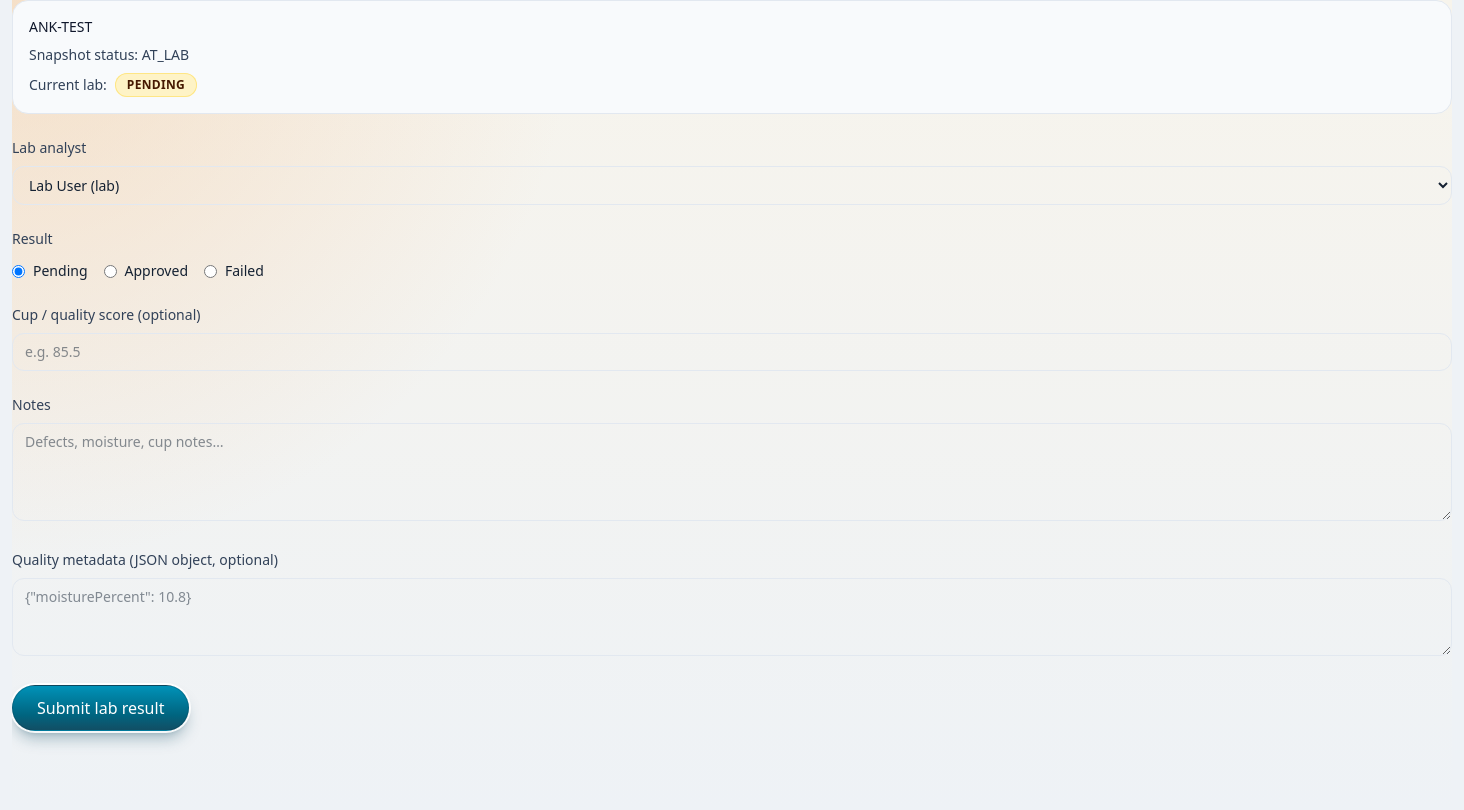
LabResultForm › shows validation error for invalid metadata JSON
This screenshot has width=1464, height=810.
Type "not-json" into the text box with placeholder "{\"moisturePercent\": 10.8}" at (732, 617), box x1=12 y1=578 x2=1452 y2=656
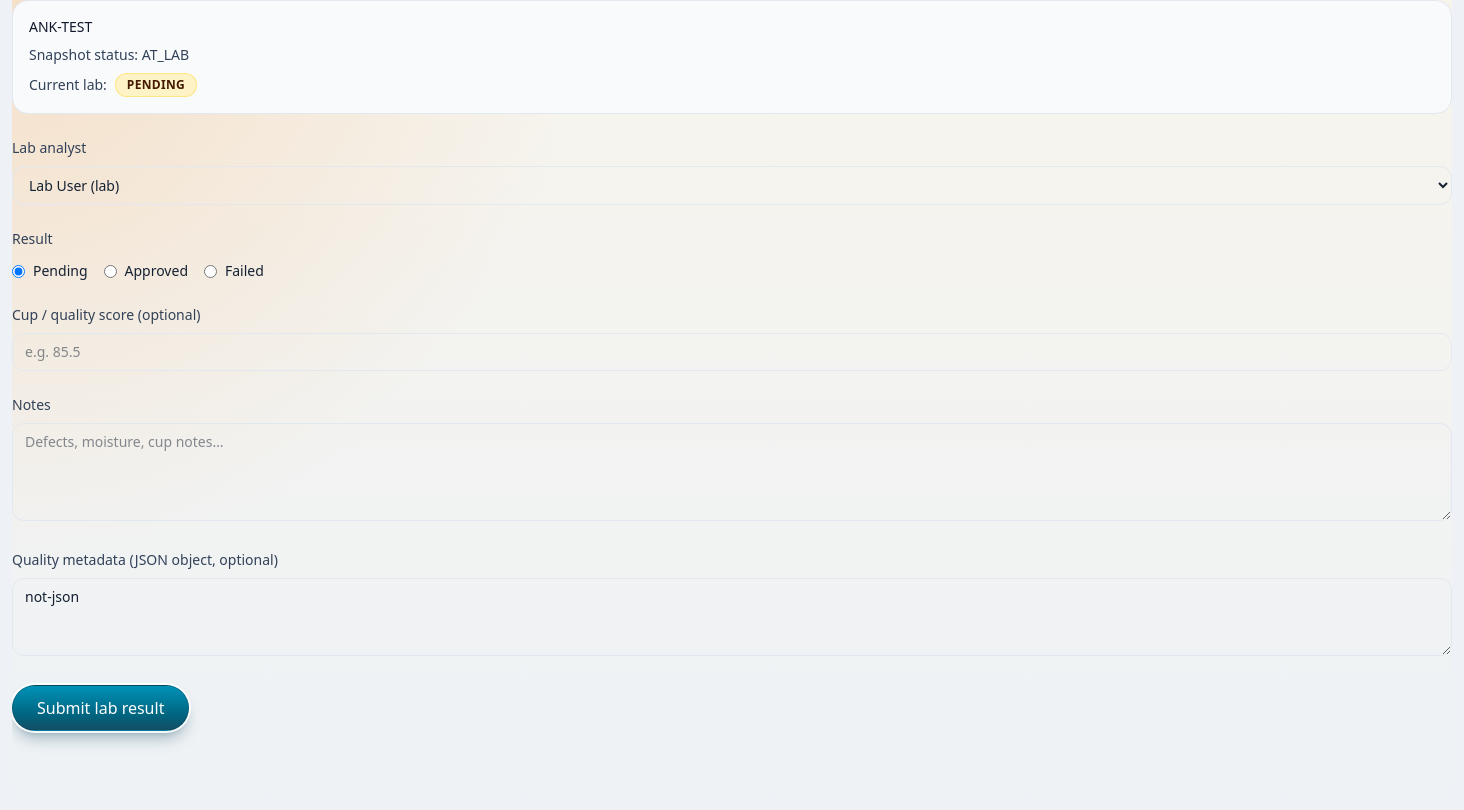
Click the button "Submit lab result" at (101, 708), box x1=12 y1=685 x2=189 y2=731
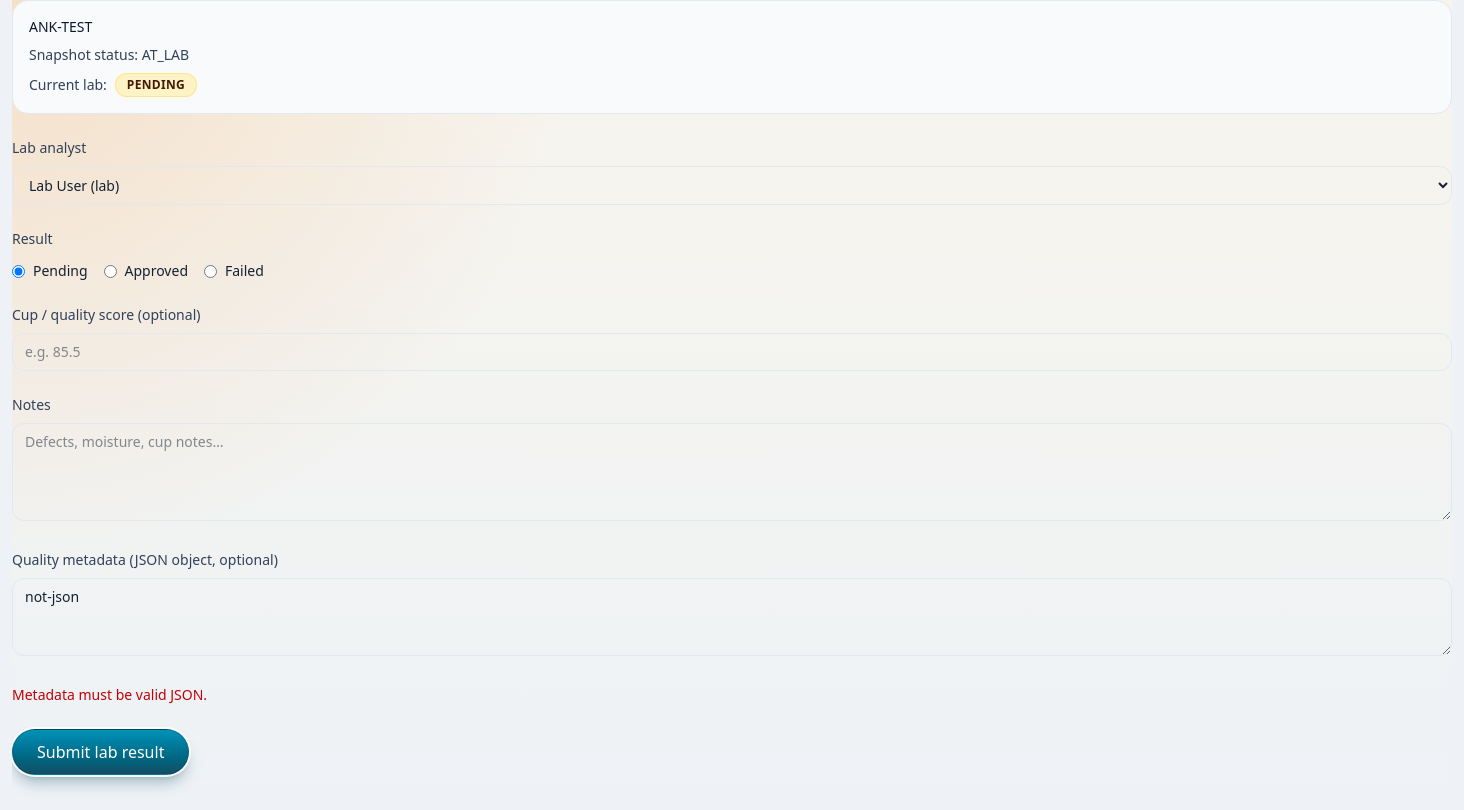
Expected: the text "Metadata must be valid JSON." is shown, x1=12 y1=685 x2=207 y2=704
